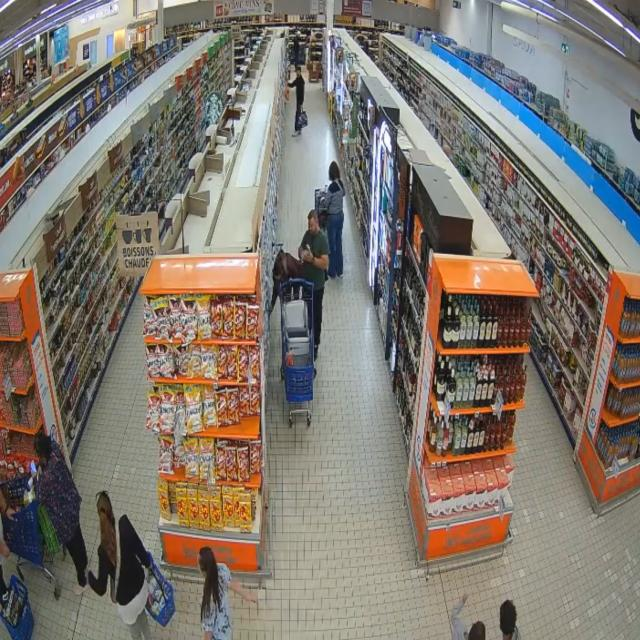bags: (110, 523, 120, 603), (298, 111, 308, 129)
hands: (0, 543, 10, 558), (245, 592, 258, 603), (303, 252, 314, 263), (6, 508, 15, 520), (298, 246, 305, 259), (31, 465, 38, 478), (88, 570, 96, 581), (462, 593, 469, 604), (270, 306, 274, 315)
person: (89, 492, 150, 639), (35, 432, 88, 594), (198, 547, 257, 639), (299, 210, 329, 357), (320, 161, 345, 277), (270, 250, 301, 311), (451, 595, 485, 639), (288, 66, 304, 135), (0, 518, 10, 608), (500, 600, 521, 639)
